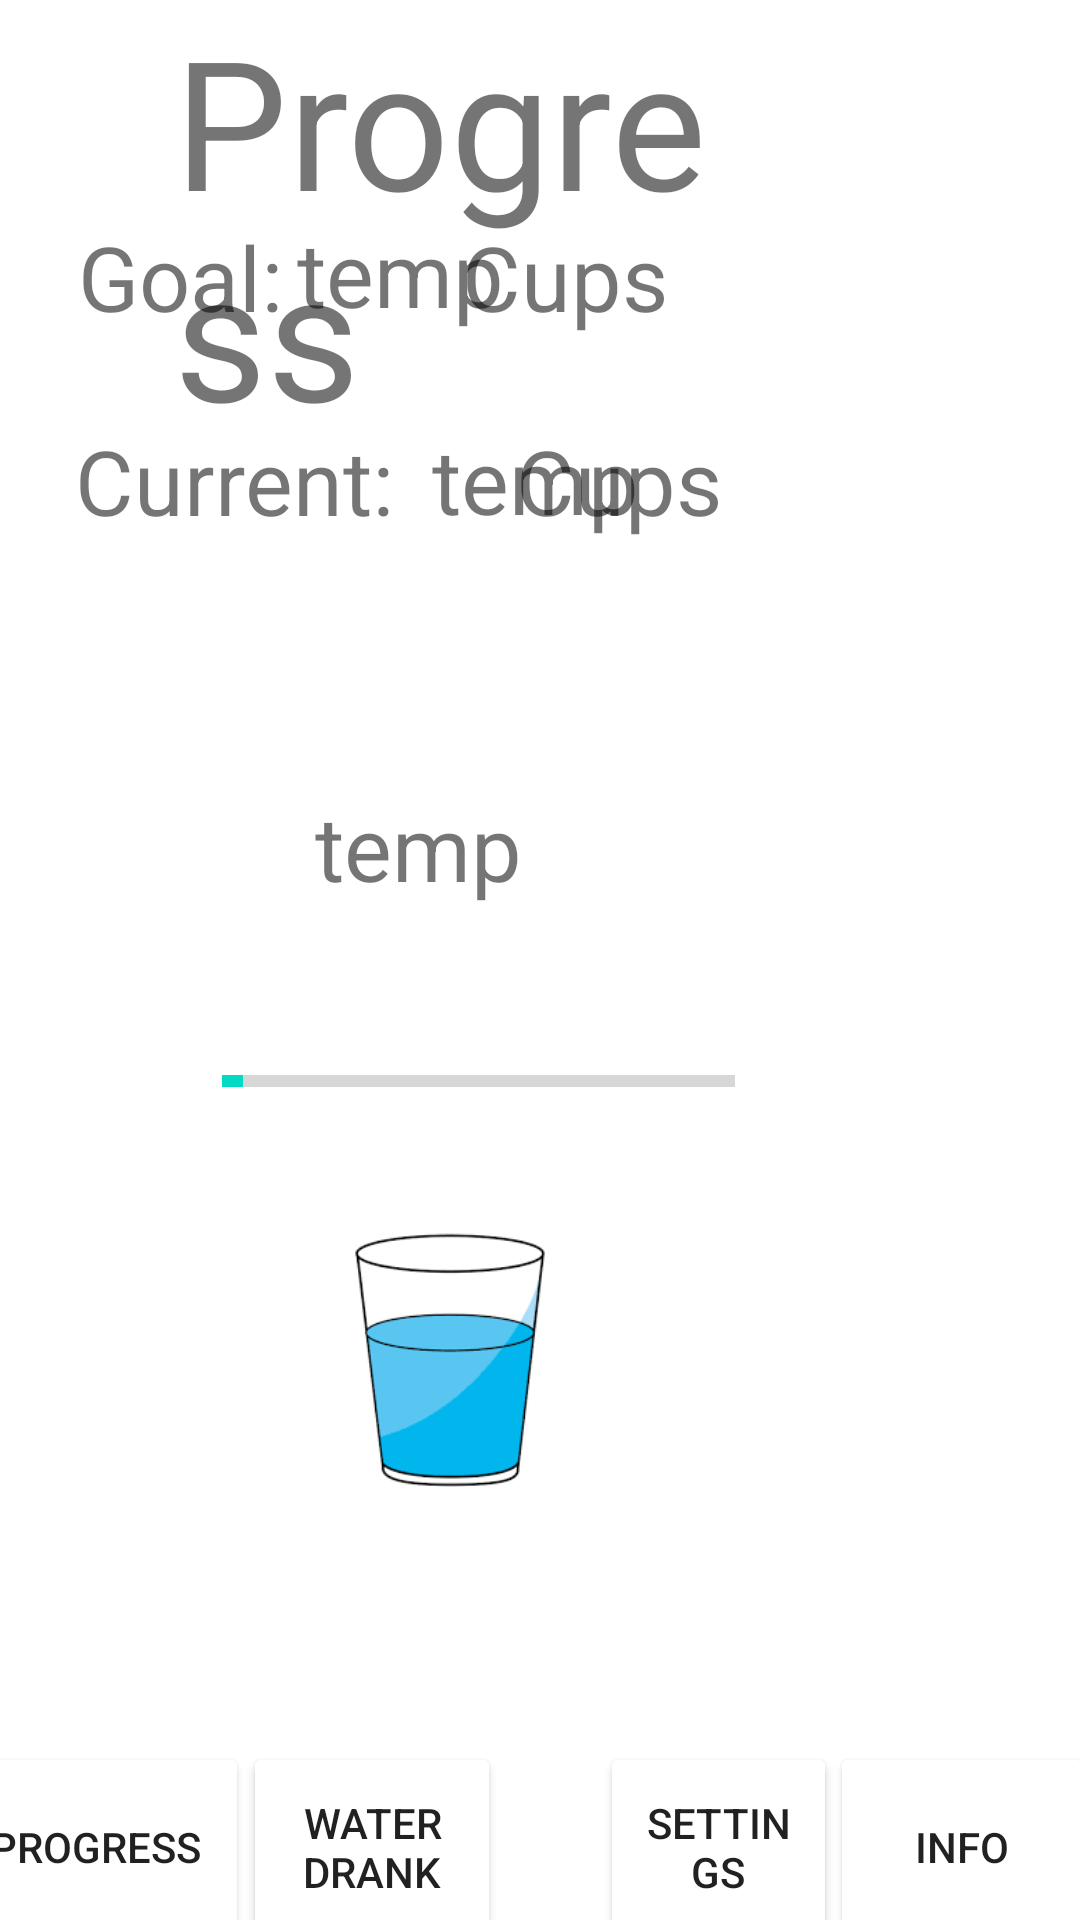

Named icons in this screenshot (1080 × 1920) and their centers, [x,y]:
water cup: [450,1360]
